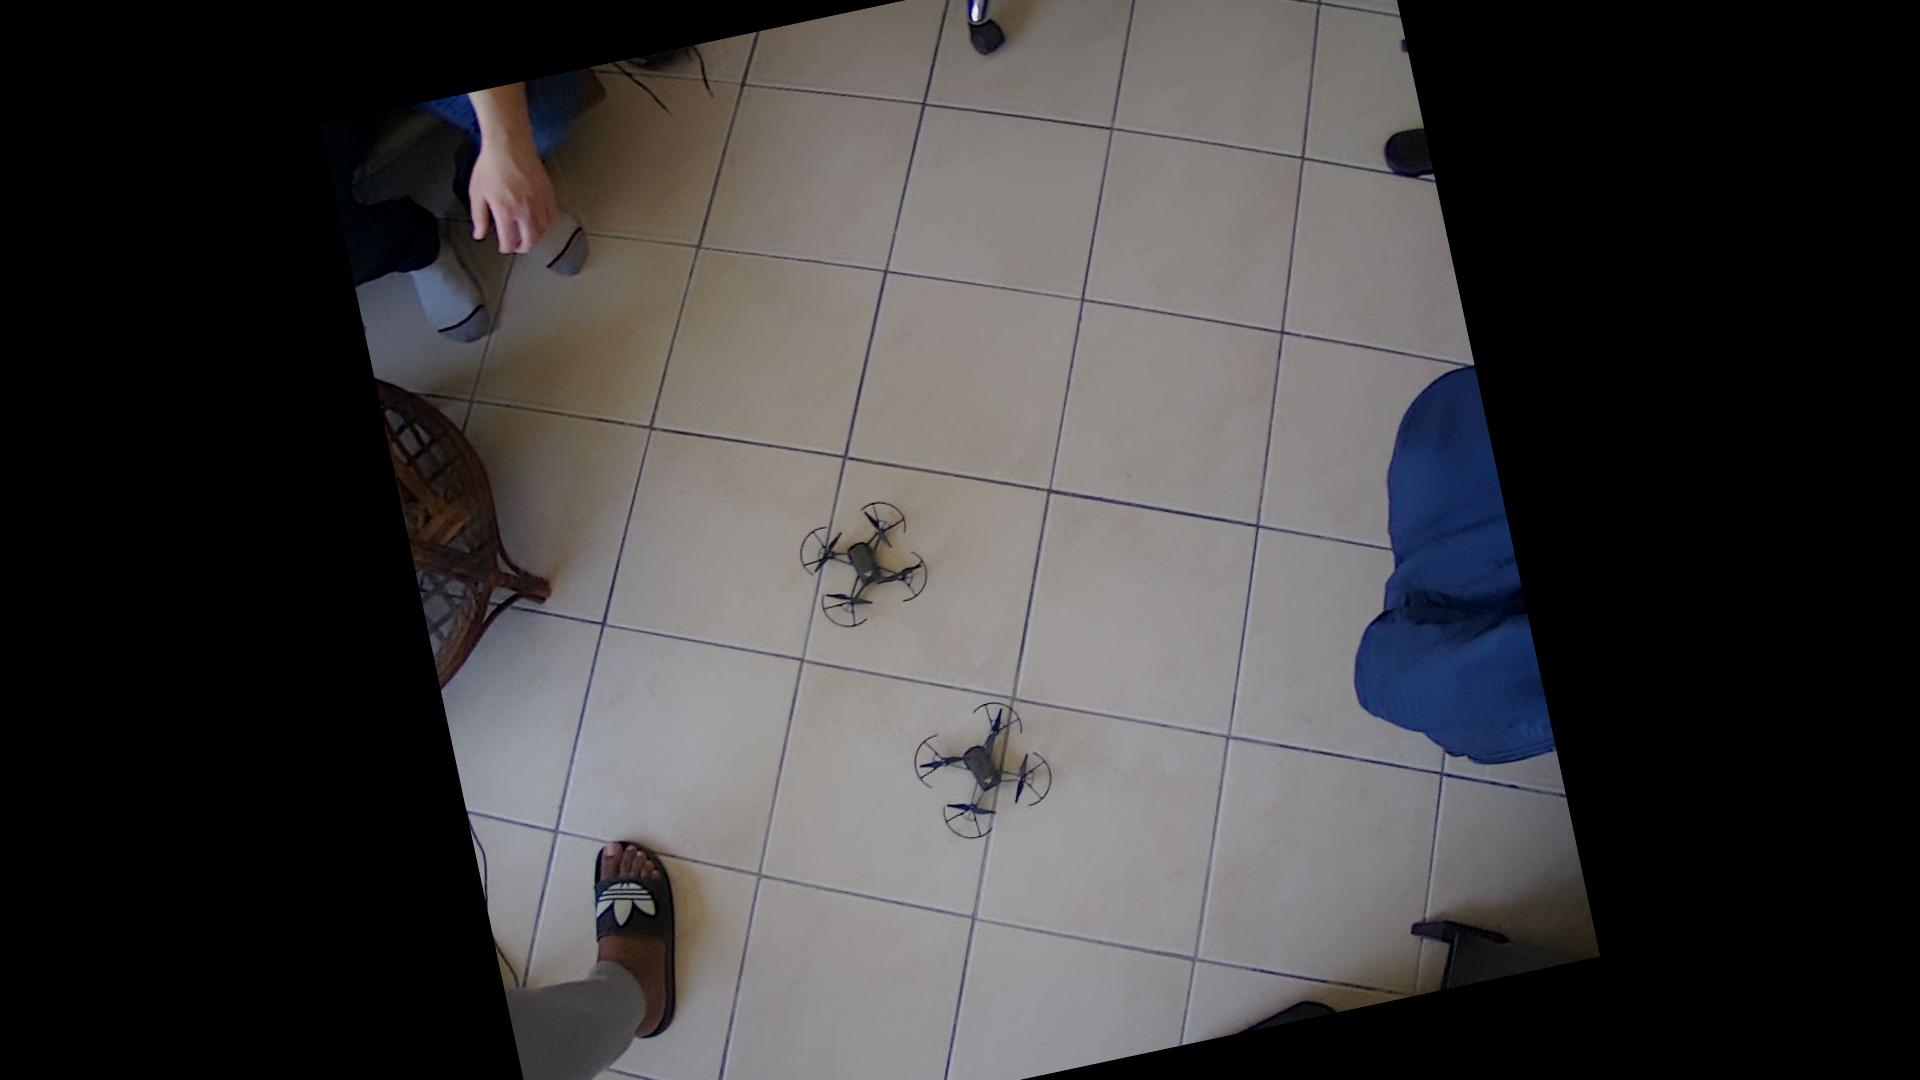dji-tello-edu-drone: (882, 669, 1084, 869), (767, 483, 959, 662)
